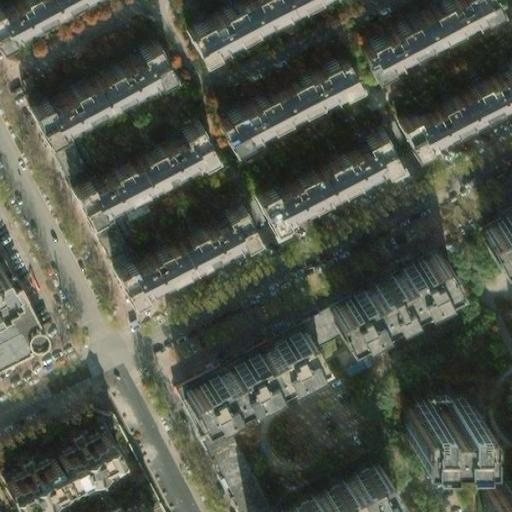building: (189, 269, 448, 411), (244, 119, 393, 222), (98, 193, 246, 295), (4, 9, 151, 111), (60, 112, 202, 211), (204, 42, 349, 137), (387, 47, 512, 141), (318, 244, 443, 327), (177, 318, 301, 401), (352, 0, 490, 66), (0, 425, 105, 490), (183, 0, 303, 52), (303, 457, 381, 512), (25, 100, 78, 177), (0, 275, 42, 359), (397, 388, 460, 436), (264, 492, 313, 512), (98, 494, 142, 512)
